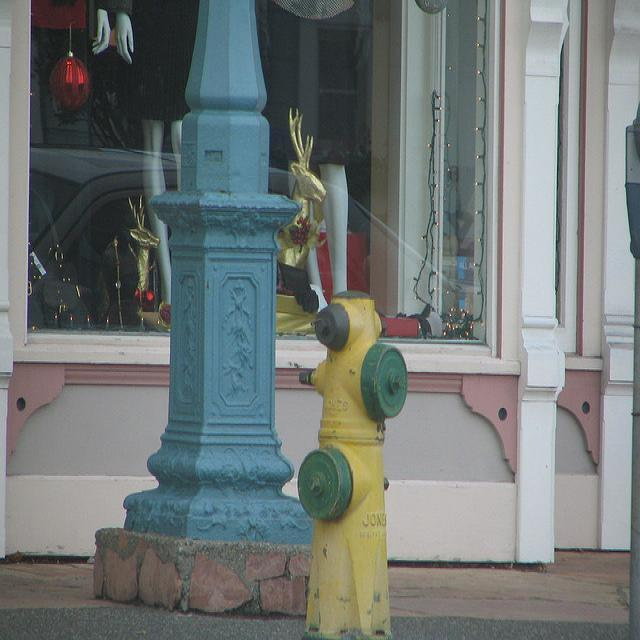fire_hydrant: (291, 287, 408, 632)
